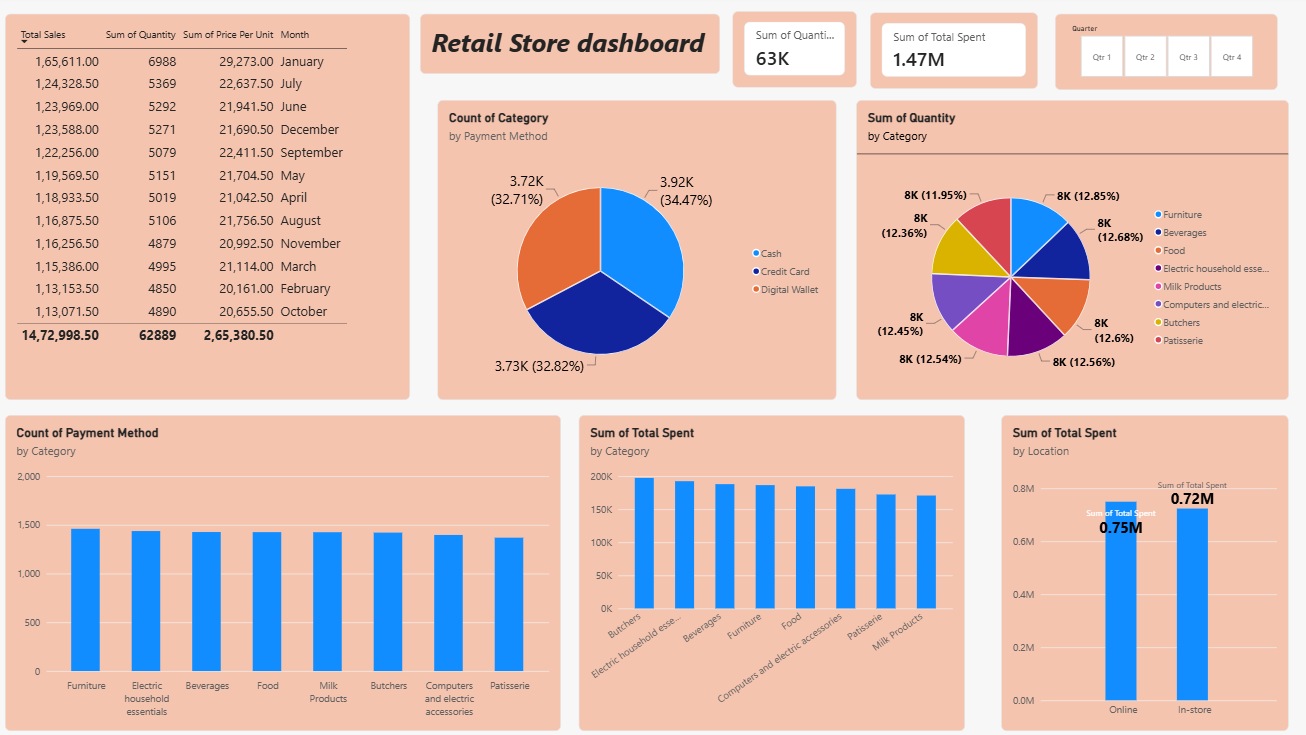

The dashboard page shown, as its layout file describes it:
{"tool":"powerbi","page":{"name":"Page 1","canvas":[1920,1080],"ordinal":0},"visuals":[{"type":"columnChart","fields":{"Category":["retail_store_sales_cleaned.Category"],"Y":["CountNonNull(retail_store_sales_cleaned.Payment Method)"]},"box":[14.5,608,805,457.5],"z":0},{"type":"pieChart","fields":{"Category":["retail_store_sales_cleaned.Category"],"Y":["Sum(retail_store_sales_cleaned.Quantity)"]},"box":[1246.9,152,626.1,434.3],"z":1000},{"type":"cardVisual","fields":{"Data":["Sum(retail_store_sales_cleaned.Total Spent)"]},"box":[1266.8,25.3,243.3,110],"z":2000},{"type":"cardVisual","fields":{"Data":["Sum(retail_store_sales_cleaned.Quantity)"]},"box":[1067.7,23.5,180,110],"z":3000},{"type":"slicer","fields":{"Values":["retail_store_sales_cleaned.Transaction Date.Variation.Date Hierarchy.Quarter"]},"box":[1534.6,27.1,322.5,110],"z":4000},{"type":"columnChart","fields":{"Category":["retail_store_sales_cleaned.Location"],"Y":["Sum(retail_store_sales_cleaned.Total Spent)"]},"box":[1456.8,608,416.2,457.8],"z":5000},{"type":"pieChart","fields":{"Category":["retail_store_sales_cleaned.Payment Method"],"Y":["CountNonNull(retail_store_sales_cleaned.Category)"]},"box":[640.6,152,577.3,434.3],"z":6000},{"type":"columnChart","fields":{"Category":["retail_store_sales_cleaned.Category"],"Y":["Sum(retail_store_sales_cleaned.Total Spent)"]},"box":[845.1,608,559.2,457.8],"z":7000},{"type":"tableEx","fields":{"Values":["retail_store_sales_cleaned.Total Sales","Sum(retail_store_sales_cleaned.Quantity)","Sum(retail_store_sales_cleaned.Price Per Unit)","retail_store_sales_cleaned.Transaction Date.Variation.Date Hierarchy.Month"]},"box":[14.5,27.1,586.3,559.2],"z":7001},{"type":"textbox","box":[615.3,27.1,434.3,86.9],"z":7002}]}

Visuals, with their boxes in screenshot pixels (x1, y1, x2, y2), scaled from the page's 1920x1080 canvas onto the 1306x735 screenshot:
columnChart - retail_store_sales_cleaned.Category x CountNonNull(retail_store_sales_cleaned.Payment Method): (10, 414, 557, 725)
pieChart - retail_store_sales_cleaned.Category x Sum(retail_store_sales_cleaned.Quantity): (848, 103, 1274, 399)
cardVisual - Sum(retail_store_sales_cleaned.Total Spent): (862, 17, 1027, 92)
cardVisual - Sum(retail_store_sales_cleaned.Quantity): (726, 16, 849, 91)
slicer - retail_store_sales_cleaned.Transaction Date.Variation.Date Hierarchy.Quarter: (1044, 18, 1263, 93)
columnChart - retail_store_sales_cleaned.Location x Sum(retail_store_sales_cleaned.Total Spent): (991, 414, 1274, 725)
pieChart - retail_store_sales_cleaned.Payment Method x CountNonNull(retail_store_sales_cleaned.Category): (436, 103, 828, 399)
columnChart - retail_store_sales_cleaned.Category x Sum(retail_store_sales_cleaned.Total Spent): (575, 414, 955, 725)
tableEx - retail_store_sales_cleaned.Total Sales x Sum(retail_store_sales_cleaned.Quantity): (10, 18, 409, 399)
textbox: (419, 18, 714, 78)
